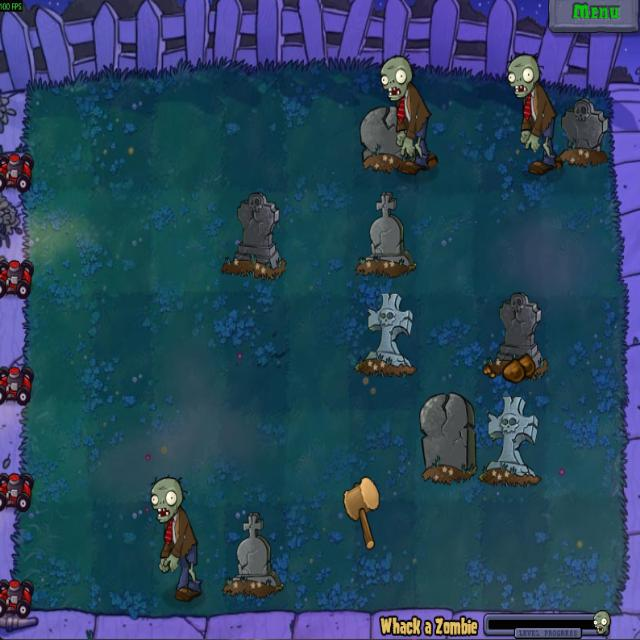grave: (353, 190, 420, 280), (220, 192, 286, 281), (480, 394, 541, 490), (484, 291, 547, 378), (418, 391, 476, 482), (356, 292, 416, 378), (224, 508, 283, 594), (556, 96, 609, 168), (359, 106, 414, 169)
zombie: (145, 474, 185, 523), (377, 54, 413, 103), (504, 52, 540, 99)
